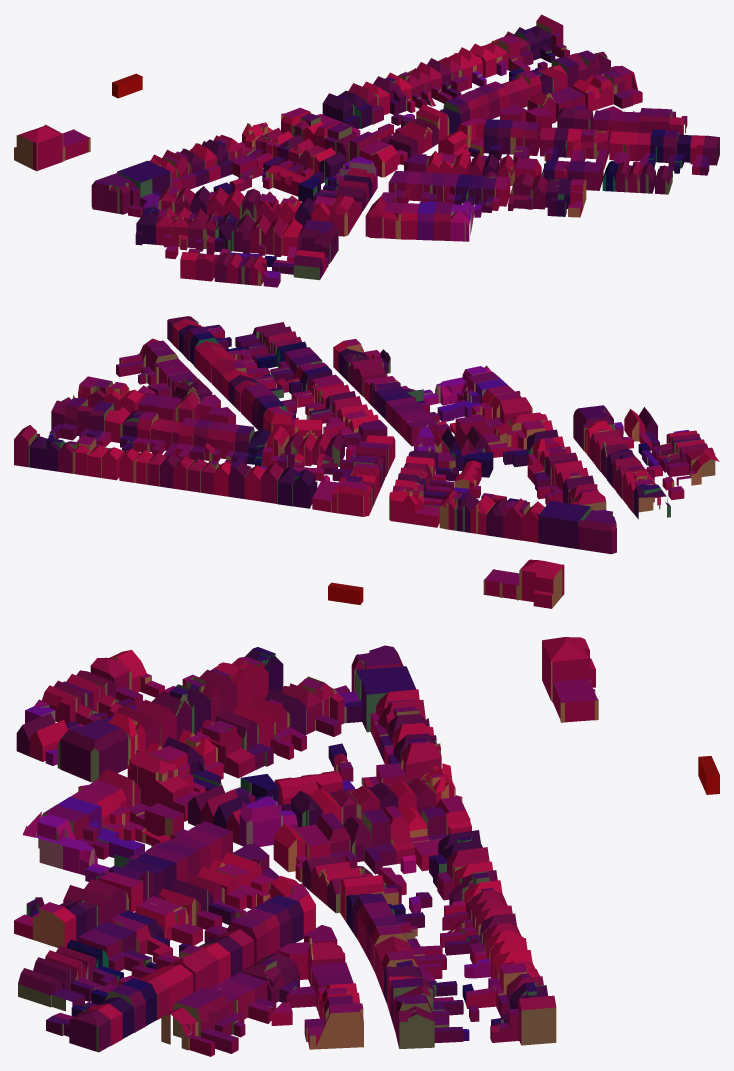
File: buildings_7_6.glb
The picture shows the model from 3 angles, top to bottom: view 1: azimuth 30°, elevation 25°; view 2: azimuth 150°, elevation 25°; view 3: azimuth 270°, elevation 25°; orthographic projection. The views are drawn at different scales.
Visible parts, largest first — view 1: buildings_7_6; view 2: buildings_7_6; view 3: buildings_7_6.
Boxes of the visible parts, box(x1,y1,x2,y2) form: buildings_7_6: box(14, 14, 719, 287); buildings_7_6: box(14, 316, 719, 608); buildings_7_6: box(14, 637, 719, 1056).
Size of the model in its own units: 211 by 12.92 by 166.
